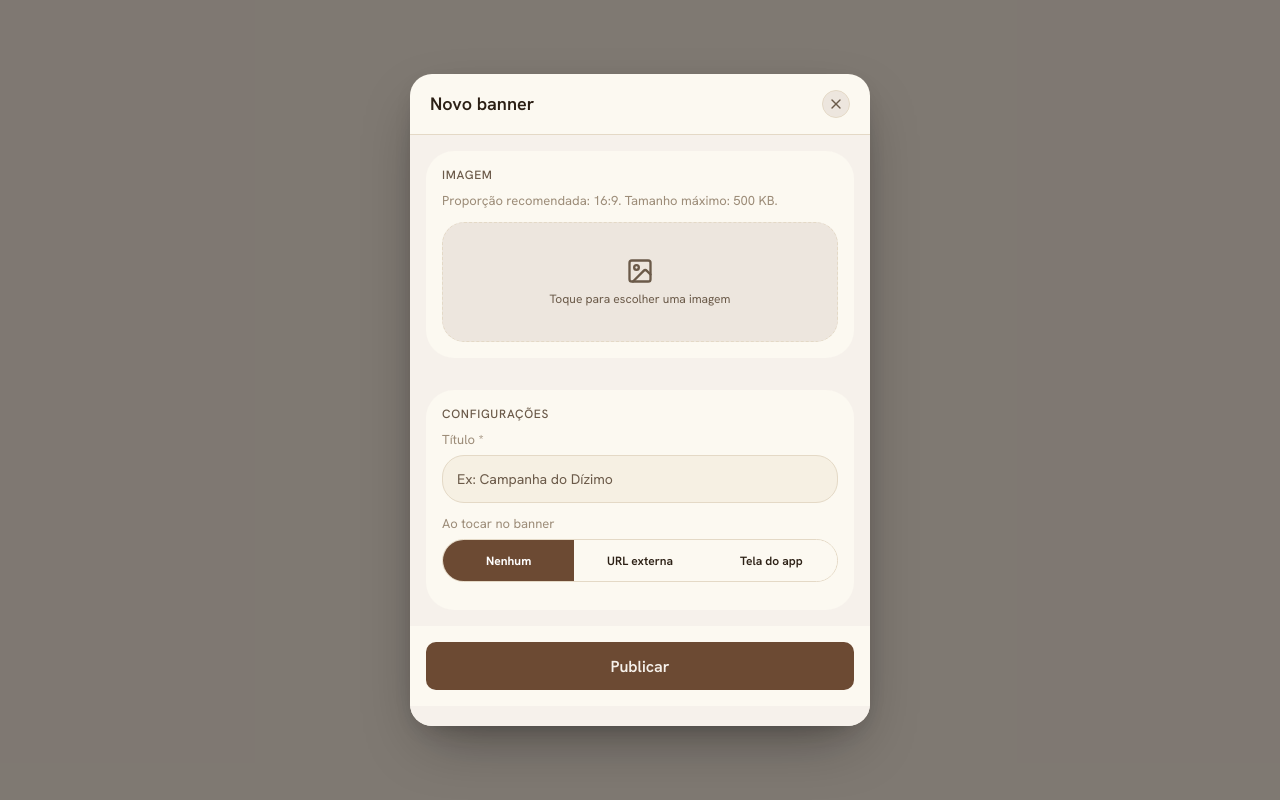
Test: ModalBannerForm · criação › limpa o erro do título ao digitar
Step 1. Click the button "Publicar" → (640, 666), box 426,642 -> 854,690
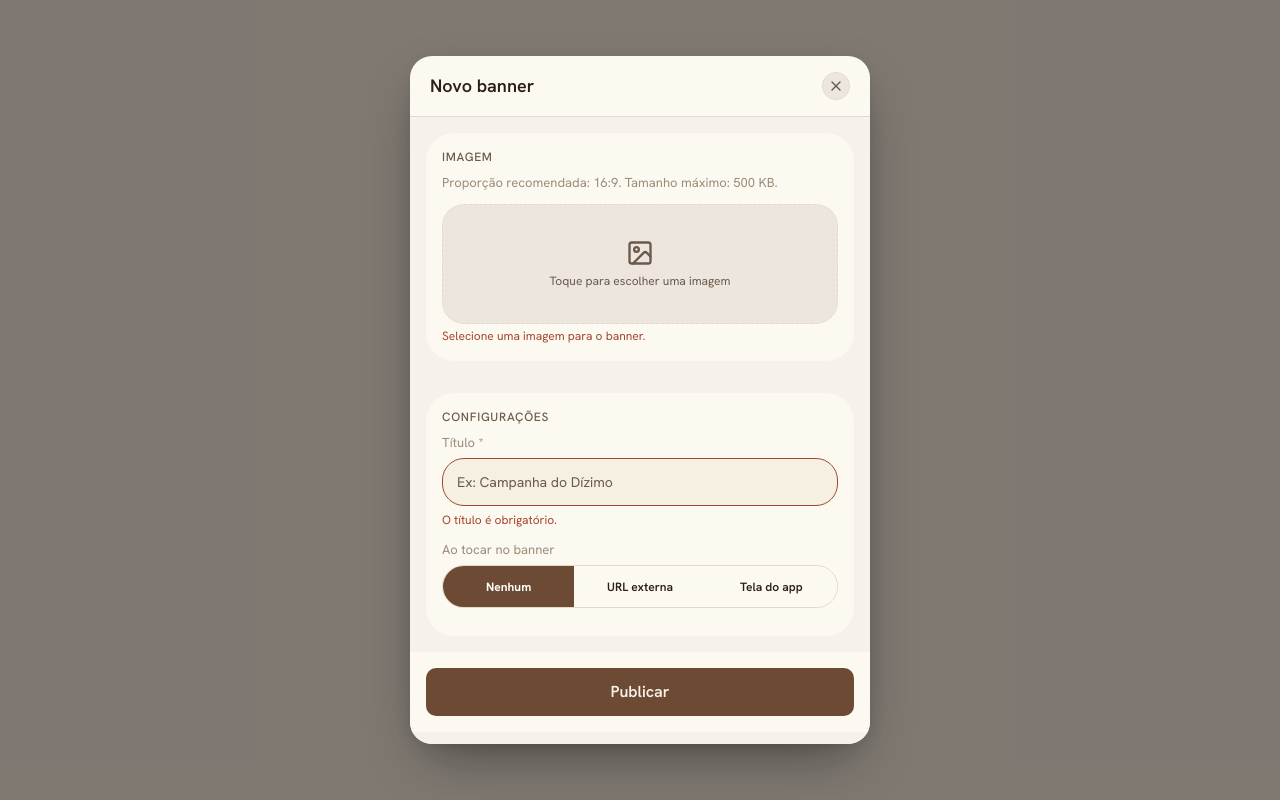
Step 2. Type "Campanha" into the field with placeholder "Ex: Campanha do Dízimo" → (640, 482), box 457,459 -> 823,505
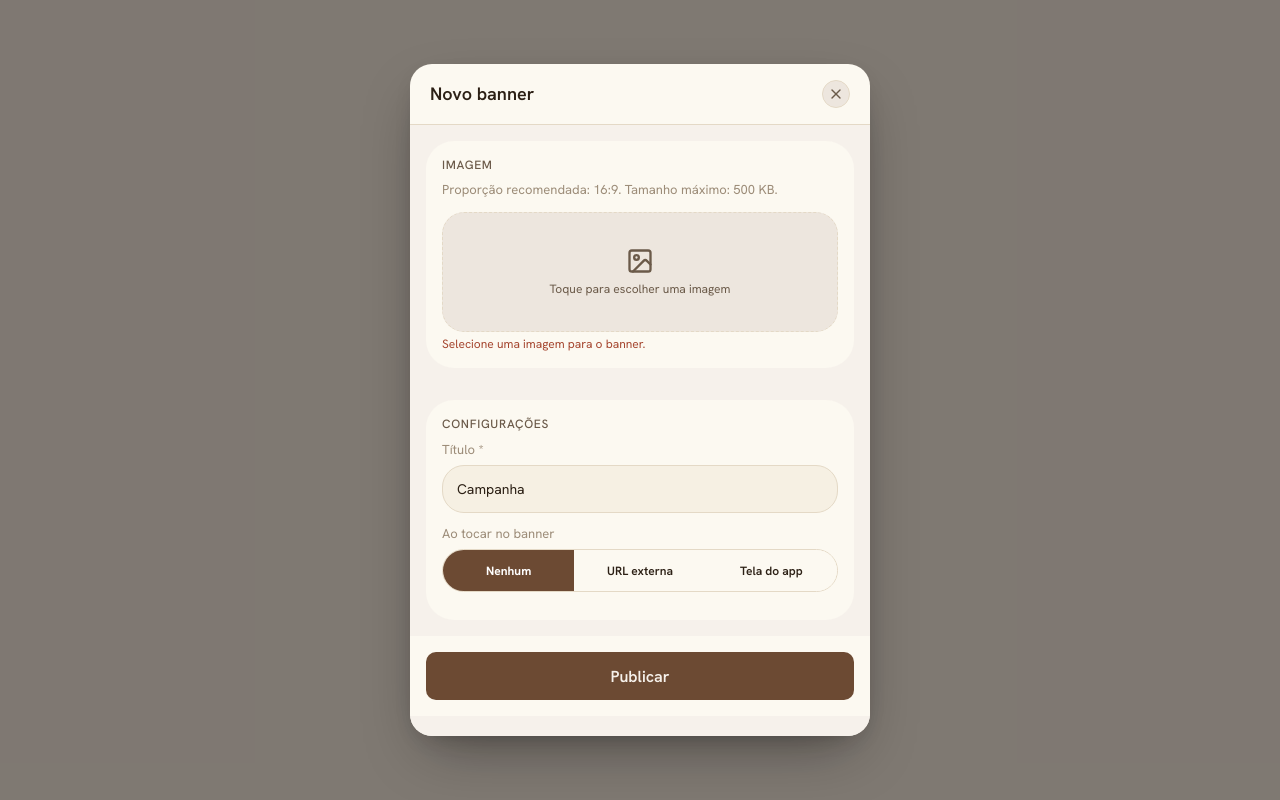
Now the text "O título é obrigatório." is gone
